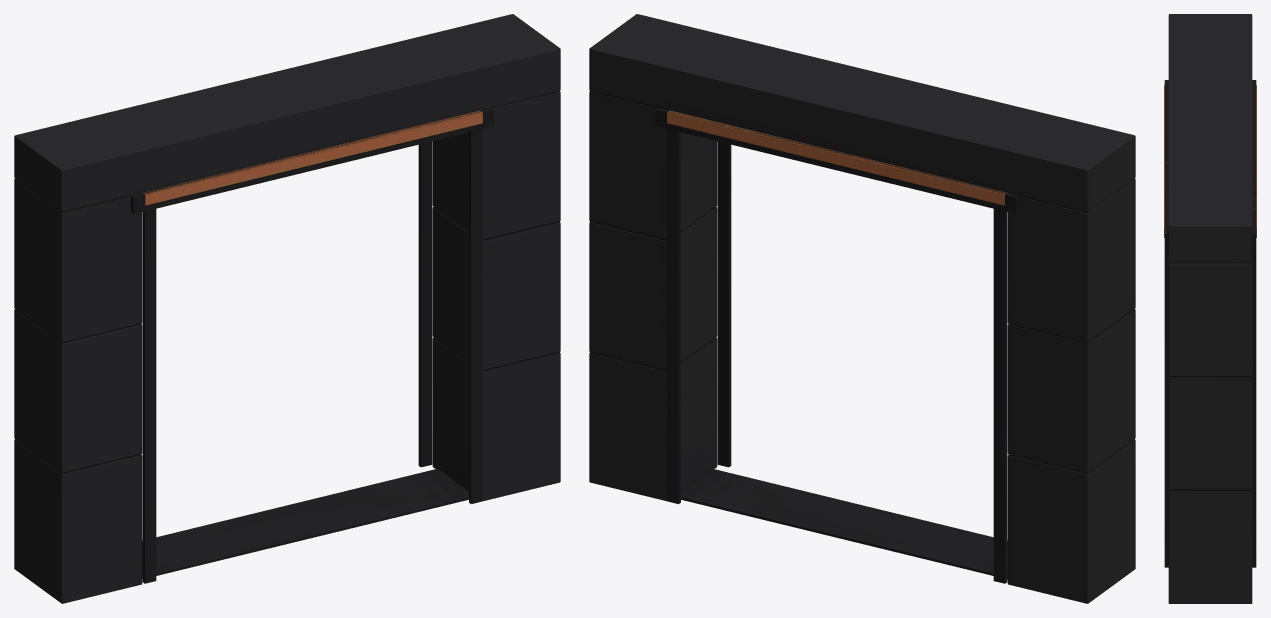
File: atrium_portal_link.glb
3 views of the same model, side by side, from view 1: azimuth 30°, elevation 25°; view 2: azimuth 150°, elevation 25°; view 3: azimuth 270°, elevation 25° (orthographic). The views are drawn at different scales.
Parts seen in each view (by area): view 1: atrium_portal_link; view 2: atrium_portal_link; view 3: atrium_portal_link.
Part boxes in pixels (bbox=[...]): atrium_portal_link: bbox=[14, 14, 560, 603]; atrium_portal_link: bbox=[589, 14, 1135, 603]; atrium_portal_link: bbox=[1164, 14, 1256, 603].
Size of the model in its own units: 4.33 by 3.6 by 0.7999.
Materials: 1 (1 with a texture image).
